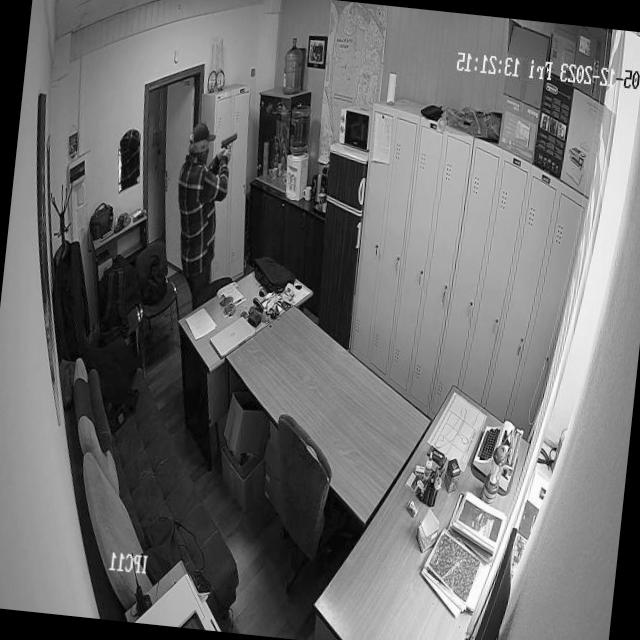gun: (216, 127, 237, 156)
person with a gun: (167, 120, 240, 278)
